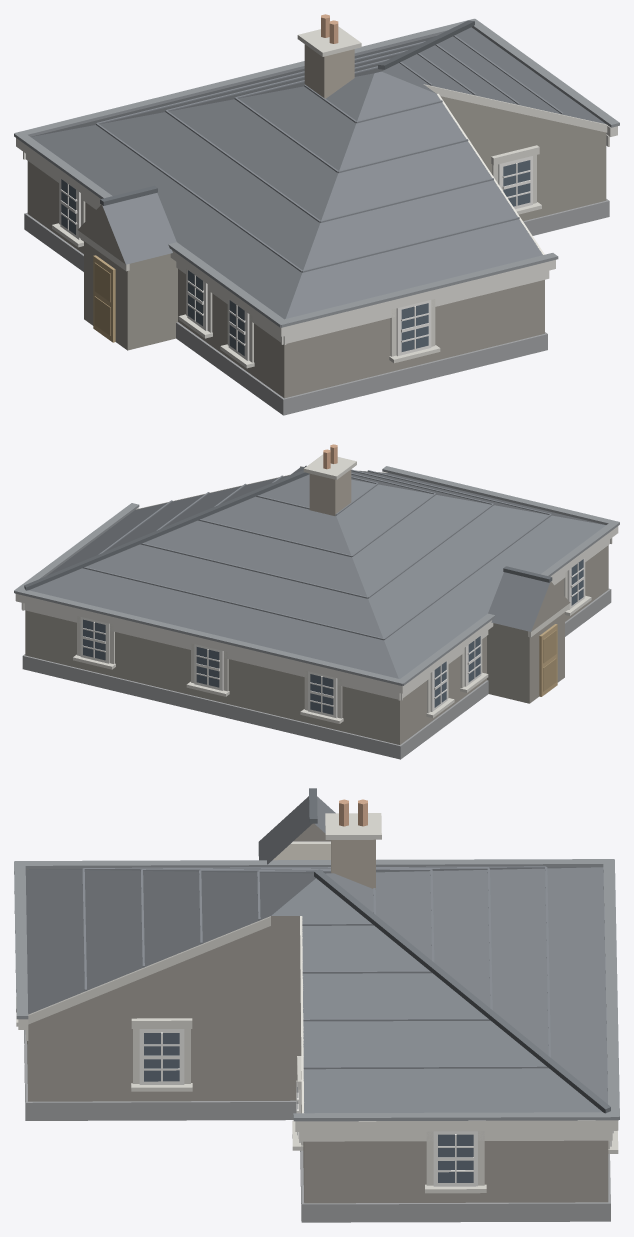
3 views of the same model, one above another, from view 1: azimuth 30°, elevation 25°; view 2: azimuth 150°, elevation 25°; view 3: azimuth 270°, elevation 25° (orthographic). The views are drawn at different scales.
Parts seen in each view (by area): view 1: slate, rubble, lead, plinth, string, dress_cream, slate_lt, frame, chim_stone, slate_dk, window_glass_008, door_wood_p (+5 smaller); view 2: slate, rubble, plinth, lead, string, slate_lt, dress_cream, frame, slate_dk, chim_stone, window_glass_007, window_glass_006 (+5 smaller); view 3: slate, rubble, lead, plinth, dress_cream, string, slate_lt, slate_dk, frame, chim_stone, window_glass_010, window_glass_009.
Part boxes in pixels (left/top/right/bottom): slate: left=31, top=27, right=605, bottom=319; rubble: left=27, top=96, right=606, bottom=398; lead: left=14, top=18, right=619, bottom=327; plinth: left=24, top=199, right=609, bottom=415; string: left=16, top=125, right=617, bottom=345; dress_cream: left=52, top=26, right=607, bottom=368; slate_lt: left=96, top=35, right=563, bottom=272; frame: left=60, top=156, right=532, bottom=360; chim_stone: left=304, top=44, right=354, bottom=98; slate_dk: left=100, top=20, right=474, bottom=205; window_glass_008: left=401, top=303, right=428, bottom=351; door_wood_p: left=94, top=262, right=110, bottom=335; slate: left=29, top=466, right=605, bottom=678; rubble: left=25, top=545, right=608, bottom=744; plinth: left=22, top=588, right=611, bottom=759; lead: left=14, top=466, right=619, bottom=685; string: left=15, top=472, right=618, bottom=700; slate_lt: left=83, top=465, right=551, bottom=640; dress_cream: left=73, top=454, right=591, bottom=723; frame: left=80, top=558, right=584, bottom=718; slate_dk: left=24, top=470, right=552, bottom=590; chim_stone: left=309, top=469, right=351, bottom=515; window_glass_007: left=310, top=674, right=333, bottom=714; window_glass_006: left=196, top=647, right=219, bottom=687; slate: left=25, top=796, right=607, bottom=1113; rubble: left=26, top=823, right=608, bottom=1203; lead: left=14, top=859, right=619, bottom=1121; plinth: left=24, top=1030, right=610, bottom=1222; dress_cream: left=16, top=813, right=618, bottom=1193; string: left=18, top=1019, right=618, bottom=1141; slate_lt: left=82, top=866, right=550, bottom=1069; slate_dk: left=309, top=788, right=610, bottom=1113; frame: left=139, top=1029, right=613, bottom=1186; chim_stone: left=331, top=839, right=375, bottom=889; window_glass_010: left=438, top=1134, right=473, bottom=1182; window_glass_009: left=144, top=1033, right=179, bottom=1081.
Size of the model in its own units: 15.06 by 6.87 by 13.59.
